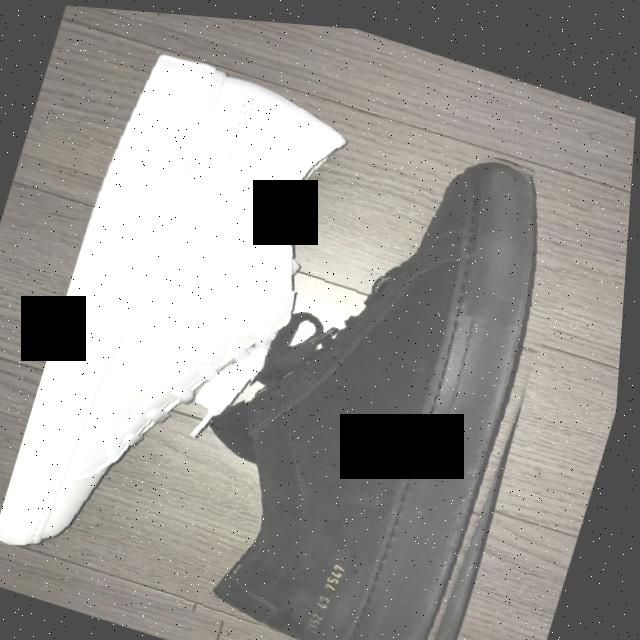shoe: (187, 88, 606, 640), (0, 29, 374, 616)
